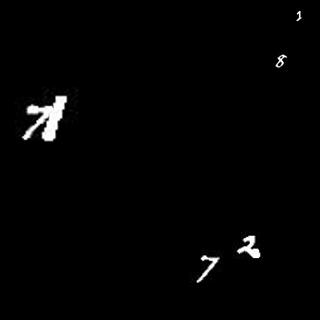eight: (270, 53, 288, 71)
one: (44, 96, 75, 145), (292, 8, 304, 22)
seven: (20, 103, 53, 144), (196, 250, 222, 284)
two: (236, 233, 265, 261)
